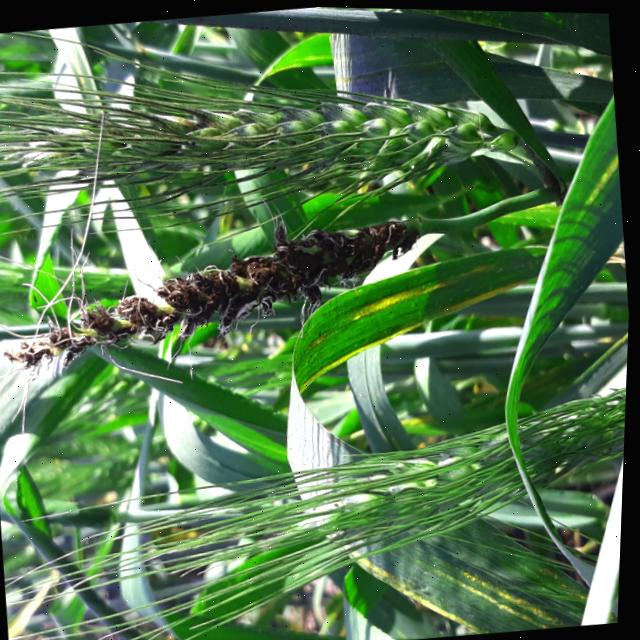loose_charred: (0, 176, 450, 426)
yellow_rust: (268, 230, 538, 432), (333, 499, 626, 640), (512, 103, 637, 321)
